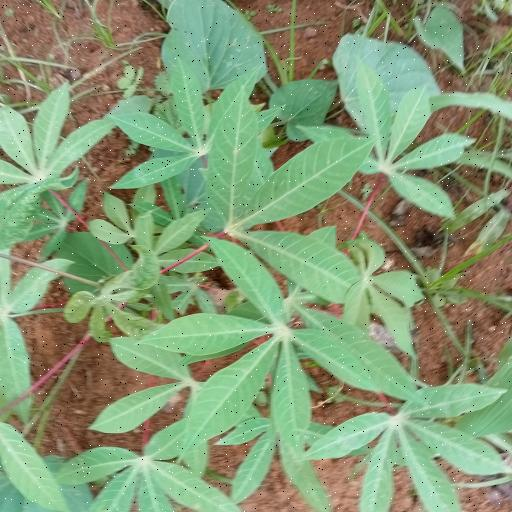Cassava_Mosaic: (151, 245, 404, 435), (316, 385, 512, 512), (0, 87, 116, 190)
